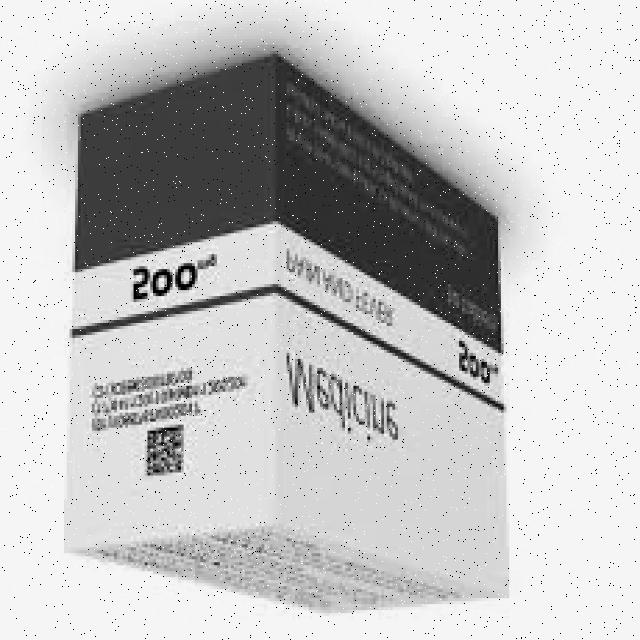datamatrix: (139, 422, 192, 482)
